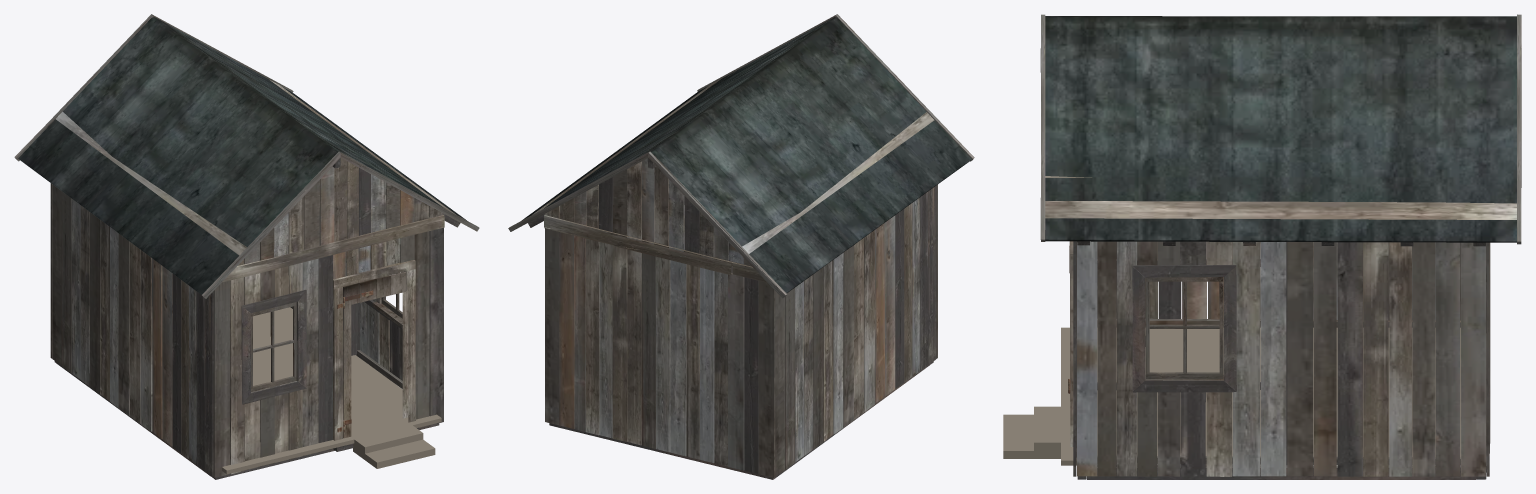
The model's file is cabin.zfix-v14.lod0.glb.
The picture shows the model from 3 angles, left to right: view 1: azimuth 30°, elevation 25°; view 2: azimuth 150°, elevation 25°; view 3: azimuth 270°, elevation 25°; orthographic projection. The views are drawn at different scales.
Visible parts, largest first — view 1: Base_PBR_0, Walkable floors and stairs; view 2: Base_PBR_0; view 3: Base_PBR_0, Walkable floors and stairs.
Part boxes in pixels (left/top/right/bottom): Base_PBR_0: left=14, top=14, right=479, bottom=479; Walkable floors and stairs: left=222, top=307, right=441, bottom=474; Base_PBR_0: left=508, top=14, right=974, bottom=479; Base_PBR_0: left=1040, top=14, right=1521, bottom=479; Walkable floors and stairs: left=1003, top=327, right=1460, bottom=465.
Bounding box in the file's own units: 7.62 × 8.16 × 9.7.
Materials: 2 (1 with a texture image).
